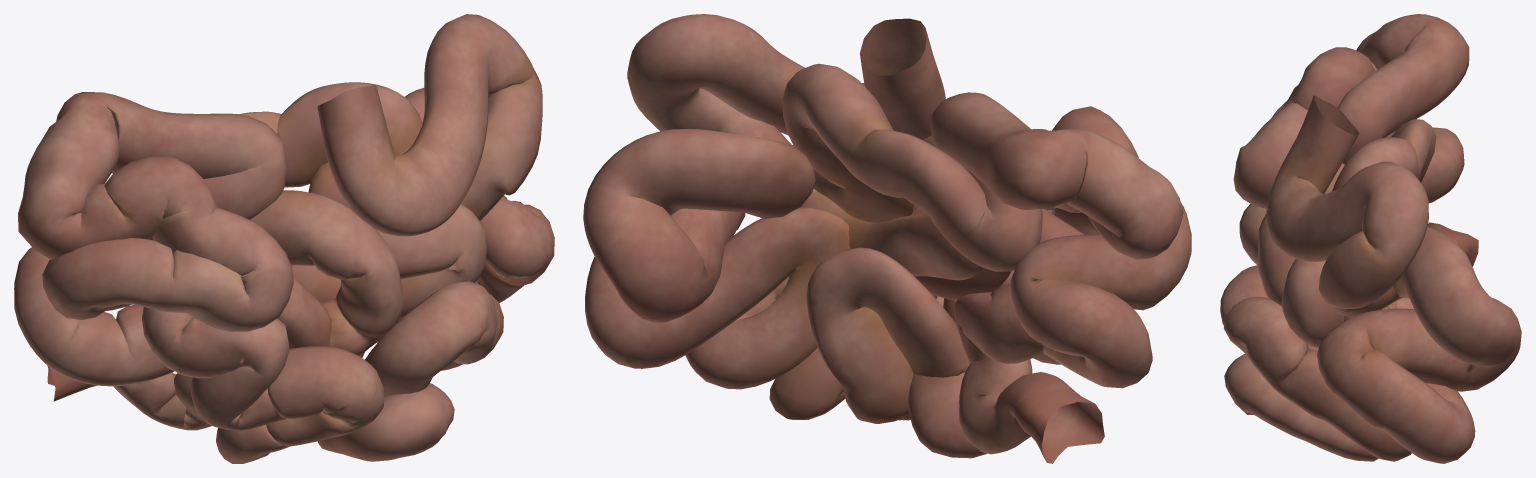
The model's file is SmallIntestines.gltf.
3 views of the same model, side by side, from view 1: azimuth 30°, elevation 25°; view 2: azimuth 150°, elevation 25°; view 3: azimuth 270°, elevation 25° (orthographic). The views are drawn at different scales.
Parts seen in each view (by area): view 1: Object_2; view 2: Object_2; view 3: Object_2.
Part boxes in pixels (x1,y1,x2,y2): Object_2: [14, 14, 554, 463]; Object_2: [583, 14, 1191, 463]; Object_2: [1220, 14, 1521, 463].
Size of the model in its own units: 17 by 11.42 by 9.51.
1 material, 1 textured.
